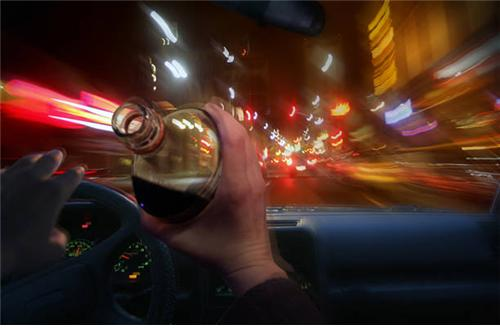alcohol: (109, 98, 269, 228)
